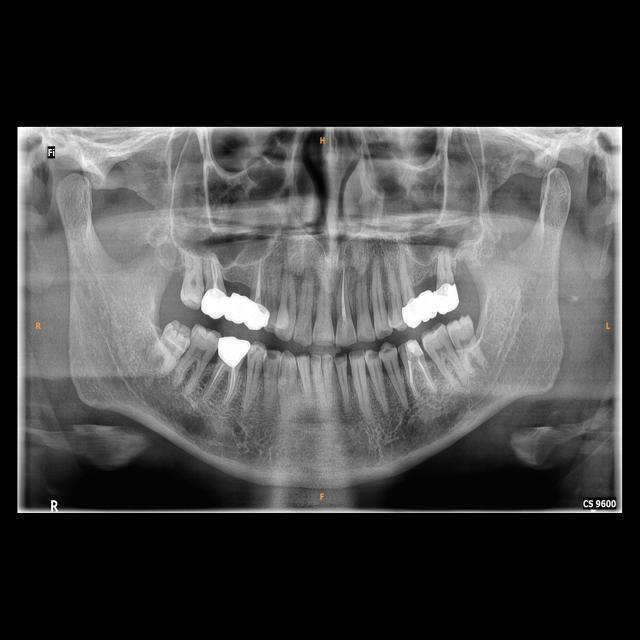dentin-curugu: (263, 349, 281, 362), (364, 349, 379, 361), (380, 345, 394, 355)
dolgu: (400, 339, 424, 363)
kanal-tedavisi: (214, 364, 241, 400), (403, 361, 430, 392), (204, 253, 225, 292), (249, 258, 265, 304), (339, 265, 350, 331)
kaplama: (215, 337, 247, 366), (245, 296, 272, 330), (436, 281, 460, 315), (200, 288, 227, 317), (401, 292, 420, 328)
kopru: (225, 280, 248, 332), (417, 283, 438, 328)
